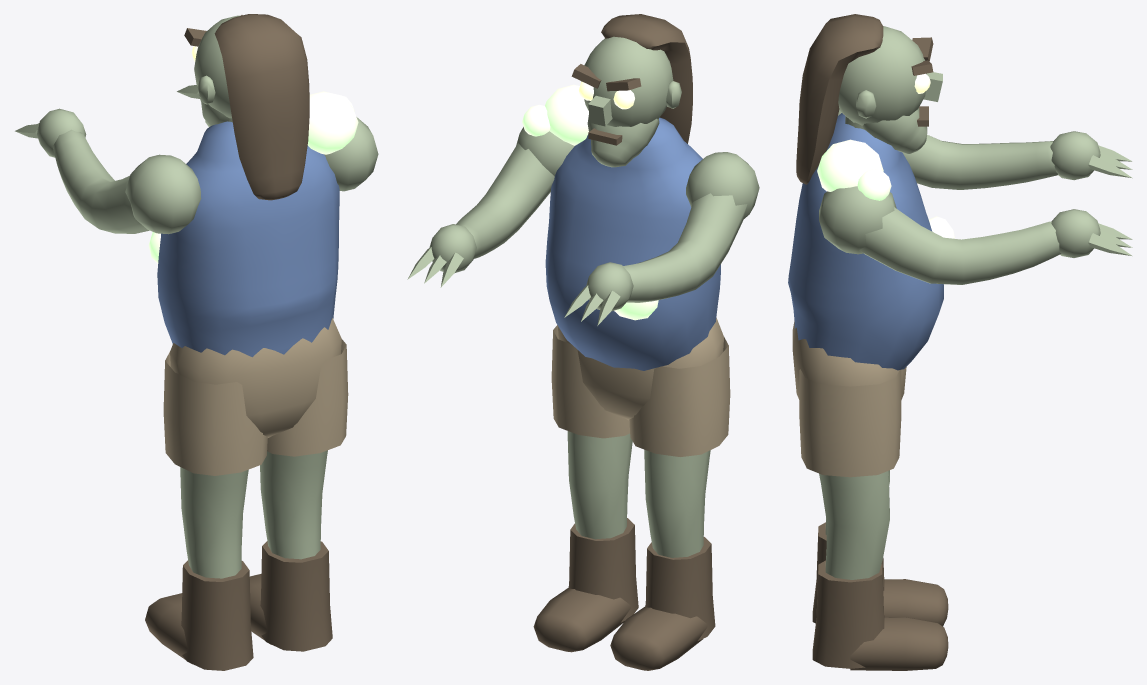
Rendered from Feral.glb.
3 views of the same model, side by side, from view 1: azimuth 30°, elevation 25°; view 2: azimuth 150°, elevation 25°; view 3: azimuth 270°, elevation 25° (orthographic). The views are drawn at different scales.
Parts seen in each view (by area): view 1: Body, Head, Arms; view 2: Body, Arms, Head; view 3: Body, Arms, Head.
Boxes of the visible parts, x1,y1,x2,y2 form: Body: [125, 91, 378, 670]; Head: [184, 14, 309, 200]; Arms: [15, 85, 200, 233]; Body: [516, 84, 759, 670]; Arms: [407, 143, 747, 325]; Head: [571, 14, 692, 167]; Body: [788, 110, 954, 670]; Arms: [859, 131, 1132, 284]; Head: [796, 14, 942, 184].
Bounding box in the file's own units: 0.7039 × 1.75 × 0.8788.
